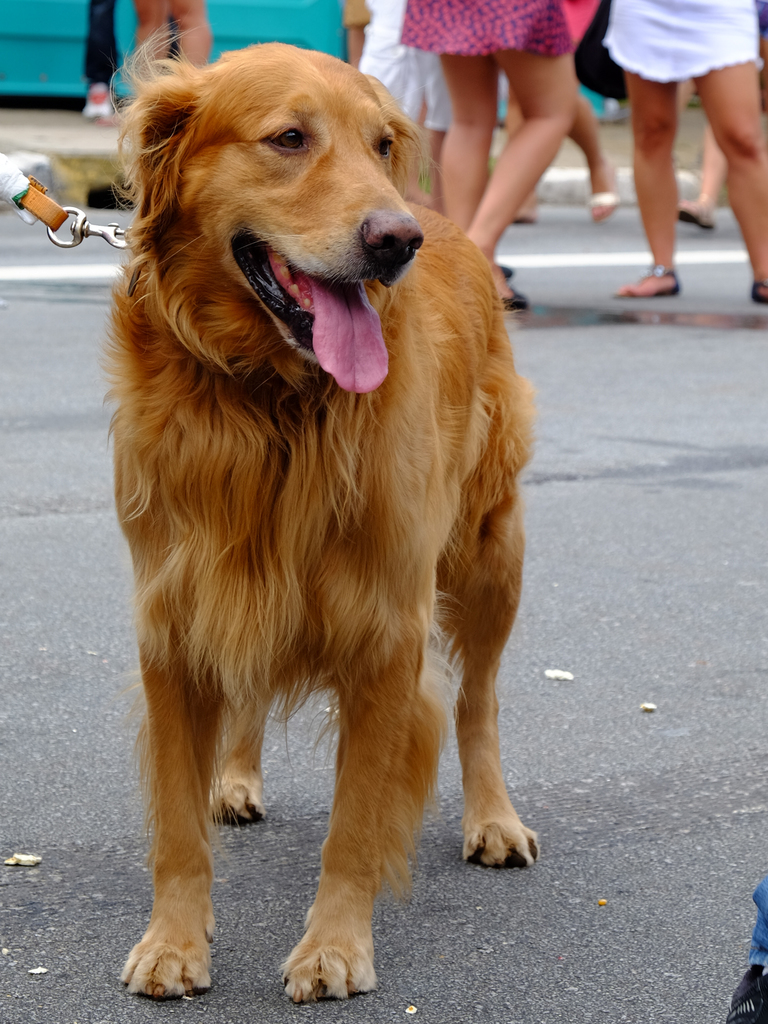Person: (81, 0, 180, 119)
